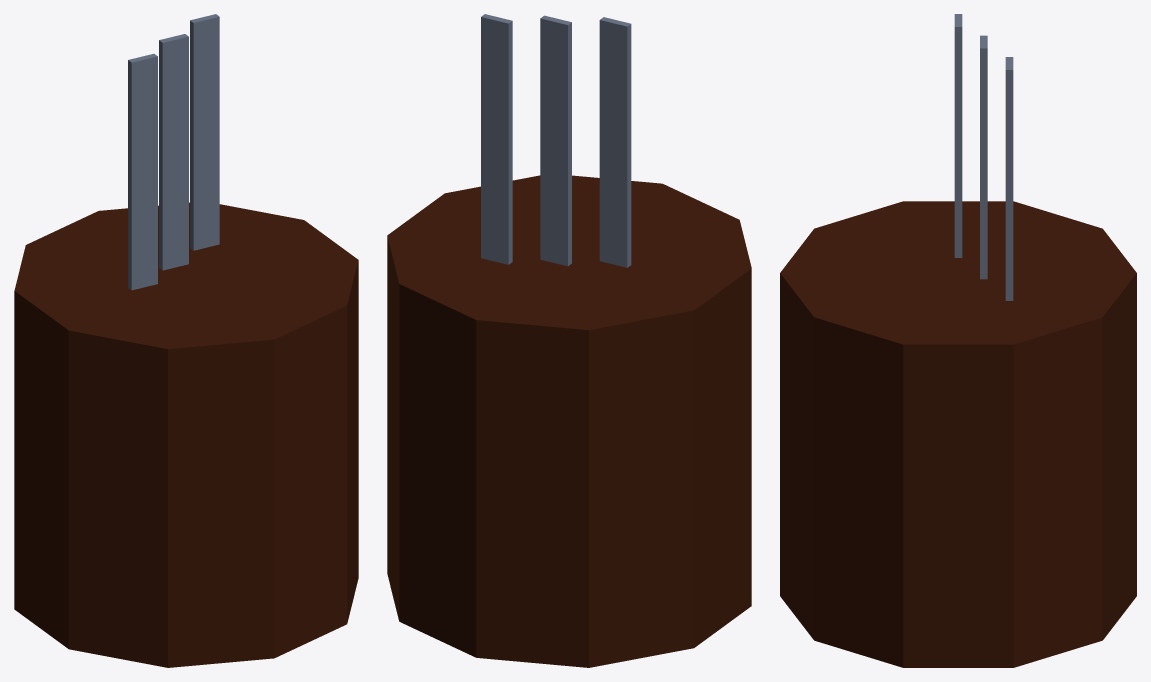
File: barrel_swords.obj
3 views of the same model, side by side, from view 1: azimuth 30°, elevation 25°; view 2: azimuth 150°, elevation 25°; view 3: azimuth 270°, elevation 25° (orthographic). The views are drawn at different scales.
Visible parts, largest first — view 1: barrel_swords; view 2: barrel_swords; view 3: barrel_swords.
Part boxes in pixels (bbox=[...]): barrel_swords: bbox=[14, 14, 358, 667]; barrel_swords: bbox=[387, 14, 751, 667]; barrel_swords: bbox=[780, 14, 1136, 667].
Bounding box in the file's own units: 0.6657 × 1.2 × 0.7.
